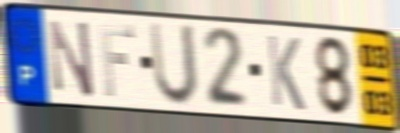2: (200, 24, 251, 111)
8: (312, 33, 356, 120)
F: (97, 22, 137, 100)
K: (264, 32, 307, 114)
N: (46, 17, 97, 101)
U: (147, 19, 201, 110)
